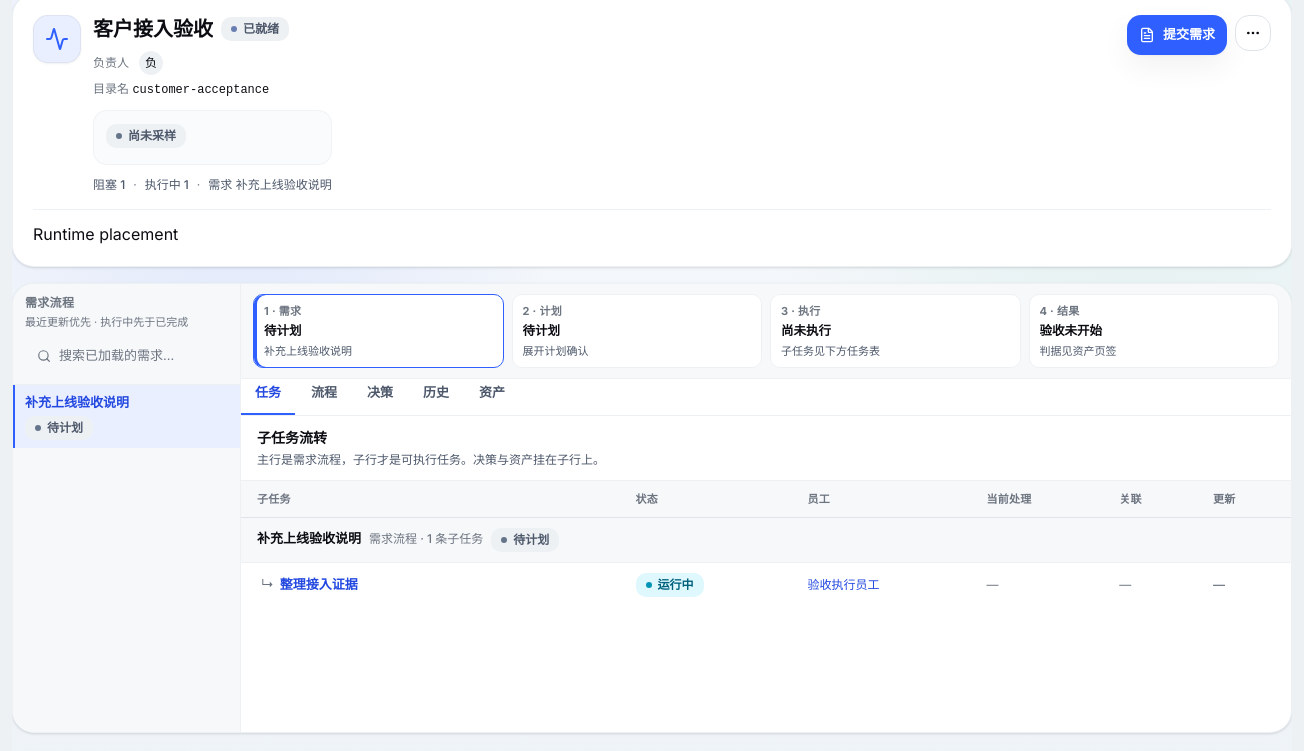
ProjectOperationalDetail › shows verification method, severity, ambiguity and evidence hint badges from criterion payload
This screenshot has width=1304, height=751.
Click the button with test id "demand-river-plan" at {"x": 637, "y": 331}, box [512,294,762,368]
(page scrolled)
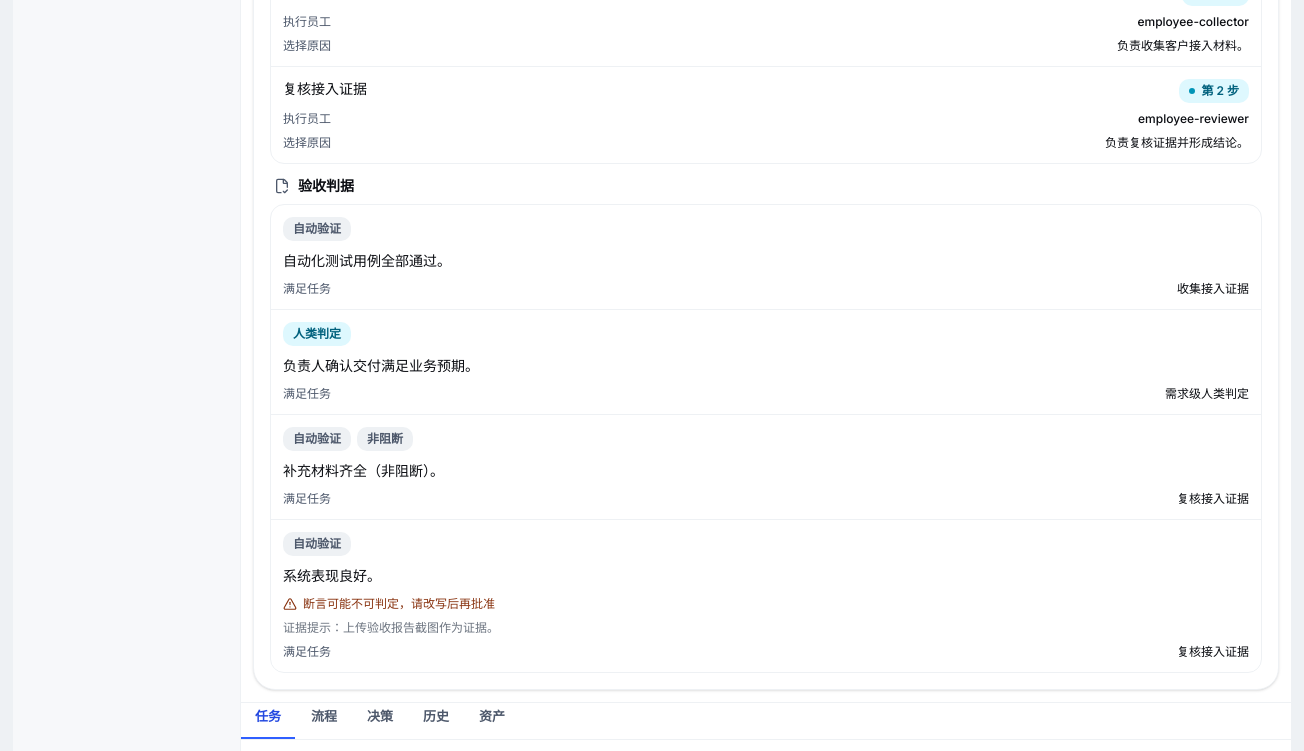
expect the text with test id "plan-acceptance-criterion-method-automated_check" reads "自动验证": met, box [293,221,341,236]
expect the text with test id "plan-acceptance-criterion-method-human_review" reads "人类判定": met, box [293,326,341,341]
expect the text with test id "plan-acceptance-criterion-severity-non_blocking_check" reads "非阻断": met, box [367,431,403,446]
